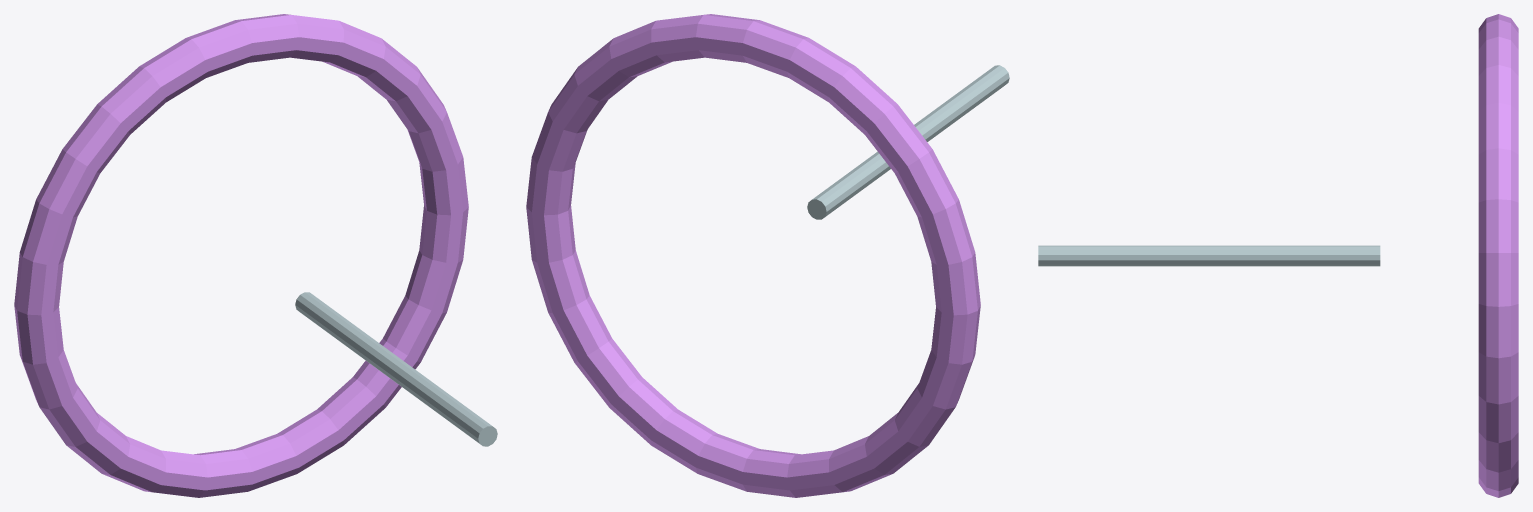
Rendered from chandelier.glb.
The picture shows the model from 3 angles, left to right: view 1: azimuth 30°, elevation 25°; view 2: azimuth 150°, elevation 25°; view 3: azimuth 270°, elevation 25°; orthographic projection. The views are drawn at different scales.
Visible parts, largest first — view 1: world; view 2: world; view 3: world.
Part boxes in pixels (<box>): world: <box>14,14,497,497</box>; world: <box>526,14,1009,497</box>; world: <box>1038,14,1518,497</box>.
Bounding box in the file's own units: 0.92 × 0.92 × 0.913.
